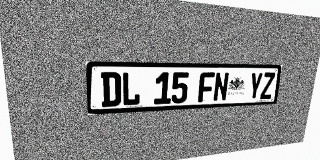1: (154, 72, 172, 104)
5: (171, 72, 189, 104)
D: (101, 72, 121, 107)
F: (198, 72, 215, 102)
L: (122, 72, 141, 106)
N: (213, 72, 229, 102)
Y: (247, 72, 263, 100)
Z: (260, 72, 275, 99)
